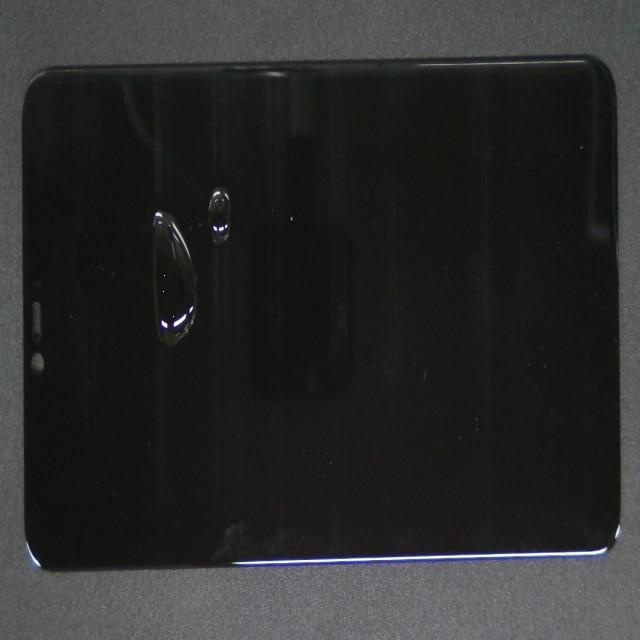oil: (105, 85, 315, 341), (71, 45, 227, 381)
